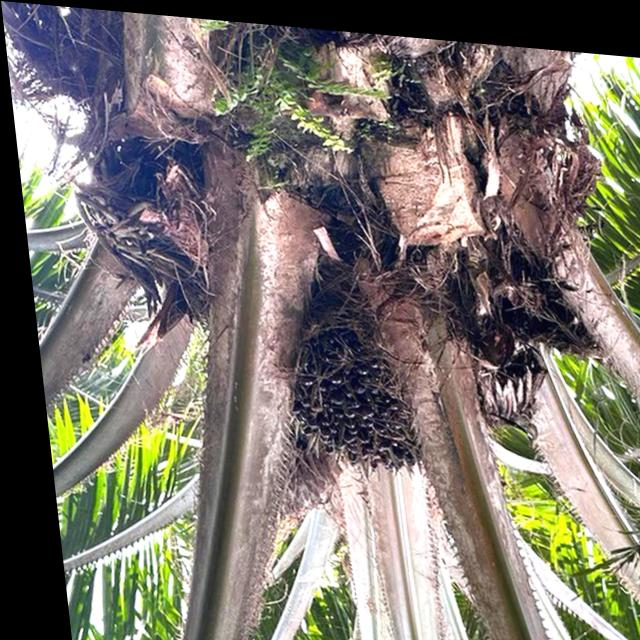almost: (256, 261, 427, 486)
